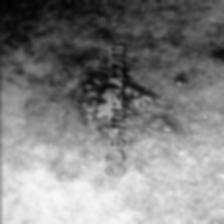Toxin: (76, 82, 174, 138)
